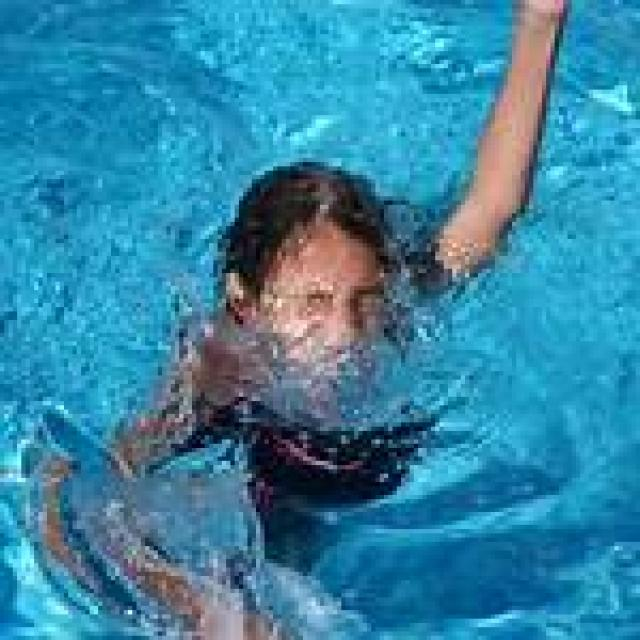Drowning: (40, 2, 572, 640)
